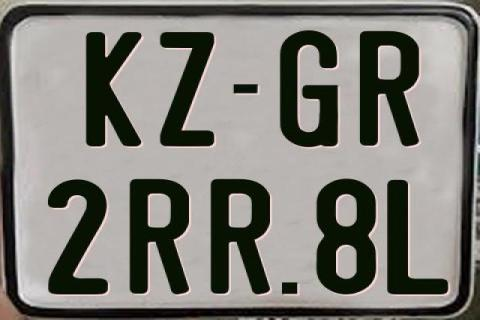0: (313, 176, 377, 297), (48, 180, 112, 300)
G: (277, 29, 335, 151)
K: (86, 31, 144, 148)
L: (386, 180, 452, 298)
R: (208, 178, 272, 298), (129, 178, 194, 296), (359, 30, 419, 146)
Z: (157, 32, 215, 146)
